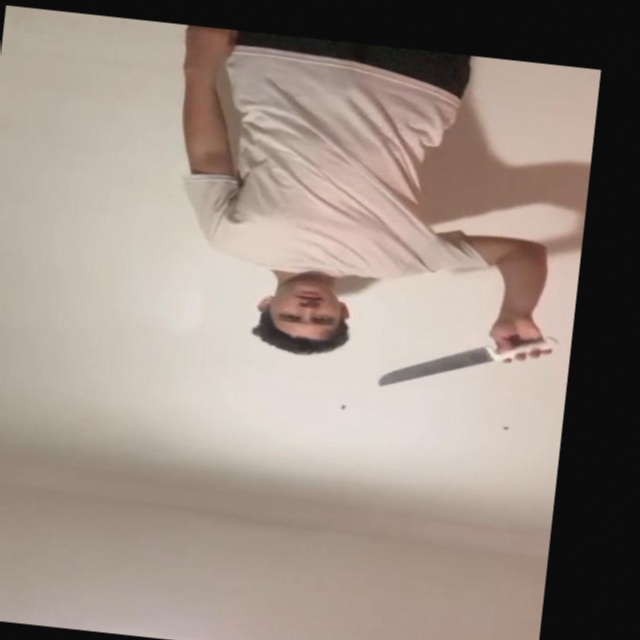Sharp-Object: (374, 338, 495, 400)
